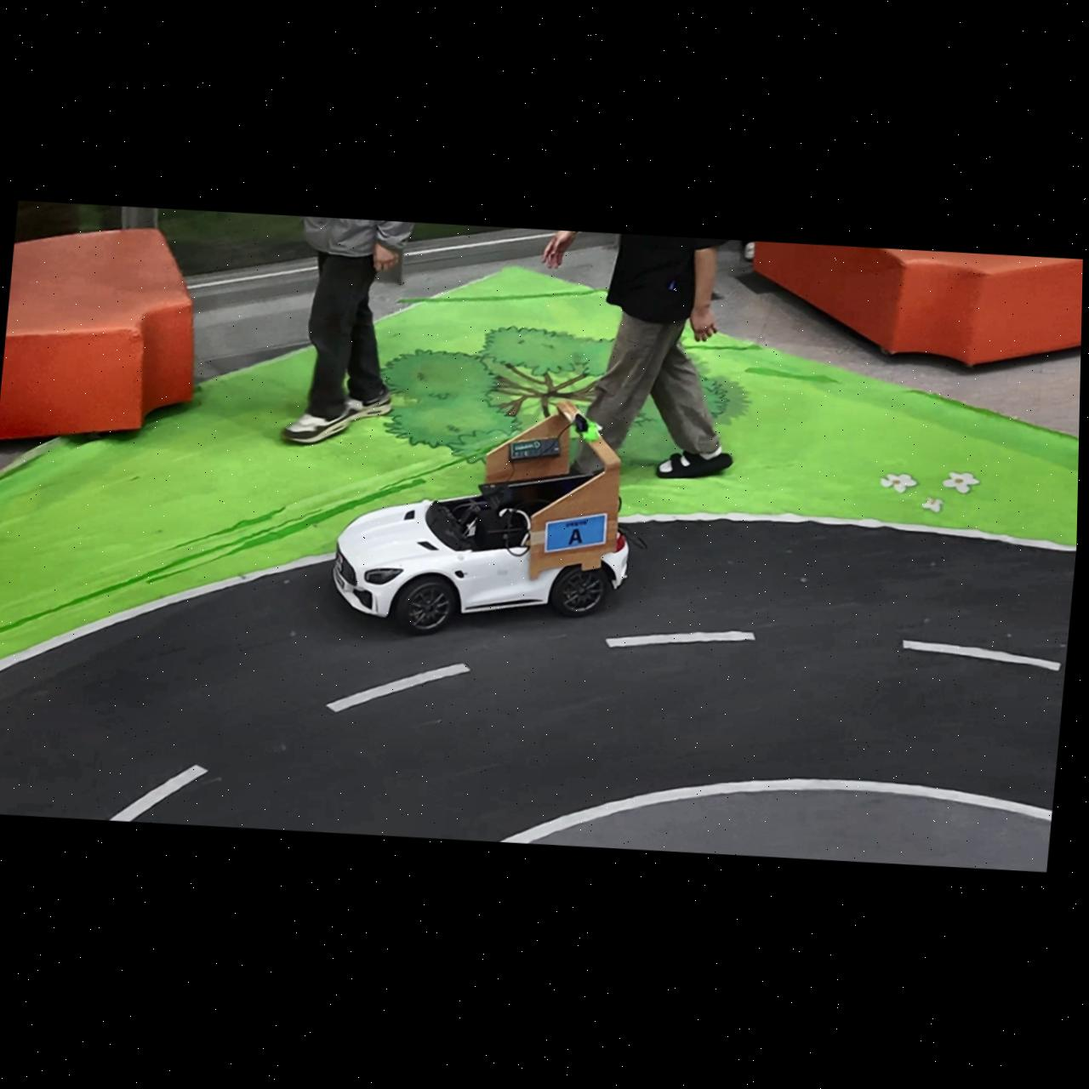broken_line: (327, 663, 471, 713), (109, 764, 209, 821), (902, 640, 1061, 671), (606, 631, 755, 647)
